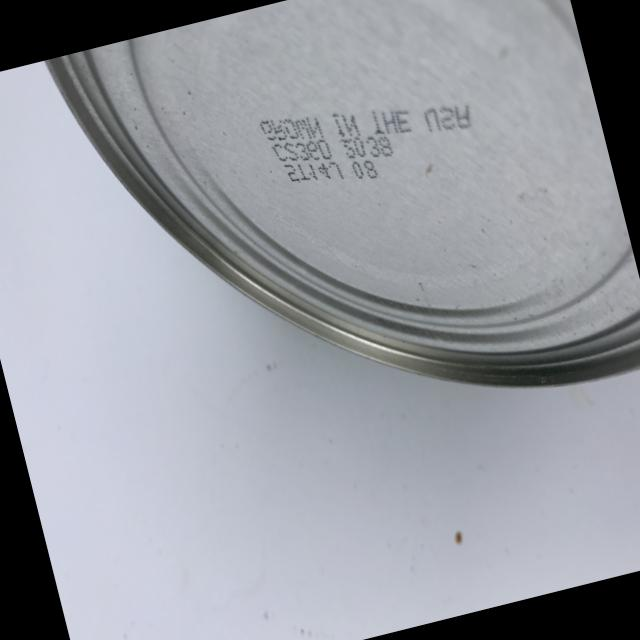Metal: (26, 0, 640, 503)
